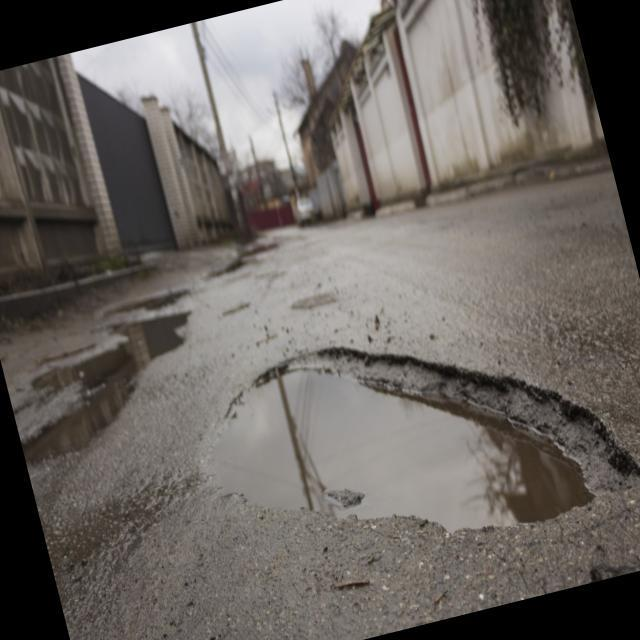Pothole: (166, 275, 640, 602), (0, 303, 217, 478), (102, 272, 194, 326), (205, 250, 248, 278)
